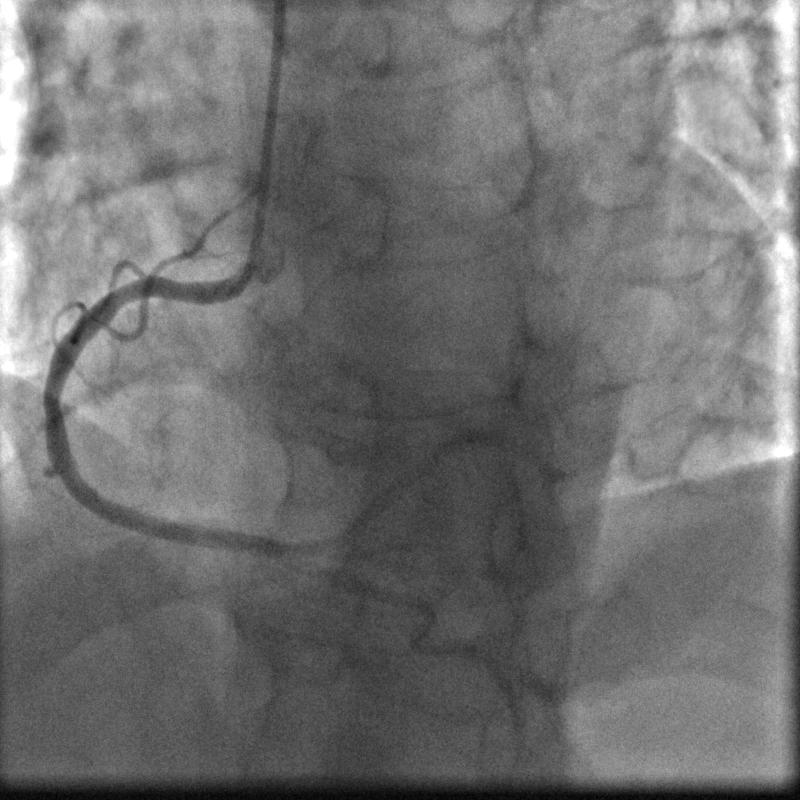Stenosis: (34, 366, 72, 422)
